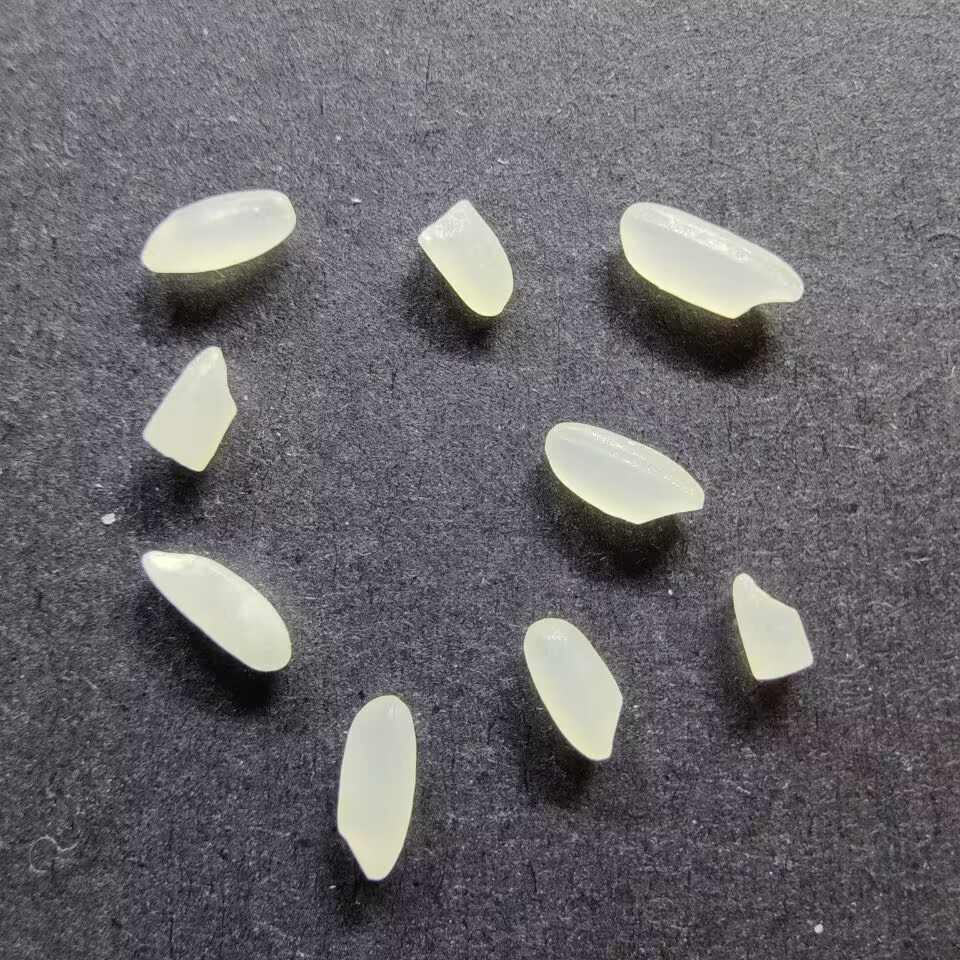broken: (139, 342, 239, 473), (415, 198, 516, 317), (730, 571, 816, 681)
rice: (617, 201, 806, 320), (138, 549, 293, 673), (542, 420, 707, 525), (334, 694, 417, 881), (521, 616, 625, 762), (137, 188, 298, 275)
